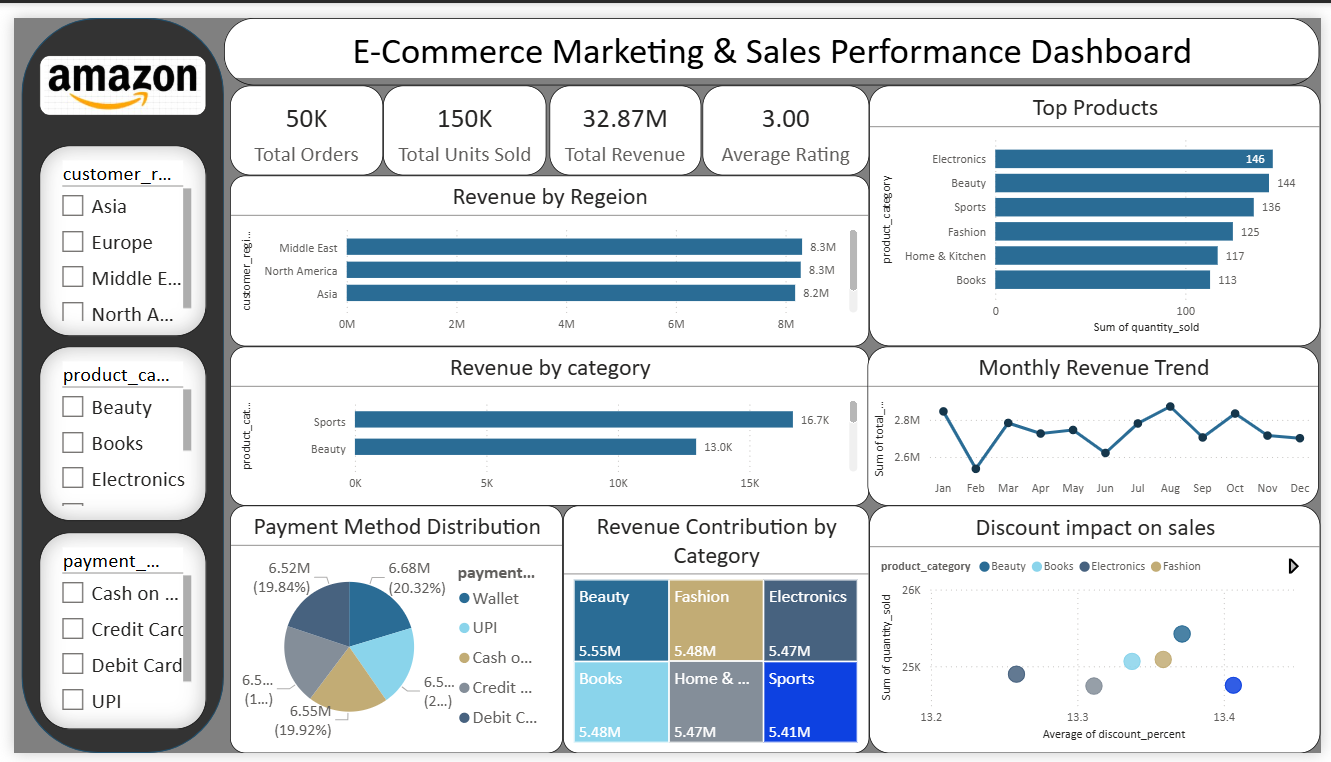

What the dashboard file says about the page in this screenshot:
{"tool":"powerbi","page":{"name":"Executive Dashboard","canvas":[1280,720],"ordinal":0},"visuals":[{"type":"textbox","box":[0,0,1278,54.4],"z":0},{"type":"card","fields":{"Values":["sales_data.Total Revenue"]},"box":[161.6,52.9,163.1,88.1],"z":1000},{"type":"card","fields":{"Values":["sales_data.Total Units Sold"]},"box":[0,141,163.1,88.1],"z":2000},{"type":"card","fields":{"Values":["sales_data.Average Rating"]},"box":[163.1,141,163.1,88.1],"z":3000},{"type":"card","fields":{"Values":["sales_data.Total Orders"]},"box":[0,52.9,163.1,88.1],"z":4000},{"type":"clusteredBarChart","title":"Revenue by category","fields":{"Y":["Sum(sales_data.total_revenue)"],"Category":["sales_data.product_category"]},"box":[805,52.9,474.5,176.3],"z":5000},{"type":"clusteredBarChart","title":"Revenue by Regeion","fields":{"Category":["sales_data.customer_region"],"Y":["Sum(sales_data.total_revenue)"]},"box":[326.1,52.9,478.9,176.3],"z":6000},{"type":"pieChart","title":"Payment Method Distribution","fields":{"Category":["sales_data.payment_method"],"Y":["Sum(sales_data.total_revenue)"]},"box":[899,229.2,380.5,314.4],"z":7000},{"type":"scatterChart","title":"Discount impact on sales","fields":{"X":["Avg(sales_data.discount_percent)"],"Y":["Sum(sales_data.quantity_sold)"],"Size":["Sum(sales_data.total_revenue)"],"Series":["sales_data.product_category"]},"box":[163.1,543.5,549.4,177.8],"z":8000},{"type":"slicer","fields":{"Values":["sales_data.product_category"]},"box":[0,386.4,163.1,157.2],"z":9000},{"type":"slicer","title":"Customer Region","fields":{"Values":["sales_data.customer_region"]},"box":[0,229.2,163.1,157.2],"z":10000},{"type":"slicer","fields":{"Values":["sales_data.payment_method"]},"box":[0,543.5,163.1,176.3],"z":11000},{"type":"clusteredBarChart","title":"Top Products","fields":{"Category":["sales_data.product_category"],"Y":["Sum(sales_data.quantity_sold)"]},"box":[163.1,229.2,453.9,314.4],"z":12000},{"type":"lineChart","title":"Monthly Revenue Trend","fields":{"Y":["Sum(sales_data.total_revenue)"],"Category":["sales_data.Month"]},"box":[712.5,543.5,567,176.3],"z":13000},{"type":"treemap","title":"Revenue Contribution by Category","fields":{"Group":["sales_data.product_category"],"Values":["Sum(sales_data.total_revenue)"]},"box":[617,229.2,282.1,314.4],"z":14000},{"type":"image","box":[0,0,326.2,53.7],"z":15000}]}

Visuals, with their boxes in screenshot pixels (x1, y1, x2, y2), scaled from the page's 1280x720 canvas onto the 1331x762 screenshot:
textbox: [0, 0, 1329, 58]
card - sales_data.Total Revenue: [168, 56, 338, 149]
card - sales_data.Total Units Sold: [0, 149, 170, 242]
card - sales_data.Average Rating: [170, 149, 339, 242]
card - sales_data.Total Orders: [0, 56, 170, 149]
"Revenue by category" clusteredBarChart: [837, 56, 1330, 243]
"Revenue by Regeion" clusteredBarChart: [339, 56, 837, 243]
"Payment Method Distribution" pieChart: [935, 243, 1330, 575]
"Discount impact on sales" scatterChart: [170, 575, 741, 761]
slicer - sales_data.product_category: [0, 409, 170, 575]
"Customer Region" slicer: [0, 243, 170, 409]
slicer - sales_data.payment_method: [0, 575, 170, 761]
"Top Products" clusteredBarChart: [170, 243, 642, 575]
"Monthly Revenue Trend" lineChart: [741, 575, 1330, 761]
"Revenue Contribution by Category" treemap: [642, 243, 935, 575]
image: [0, 0, 339, 57]
